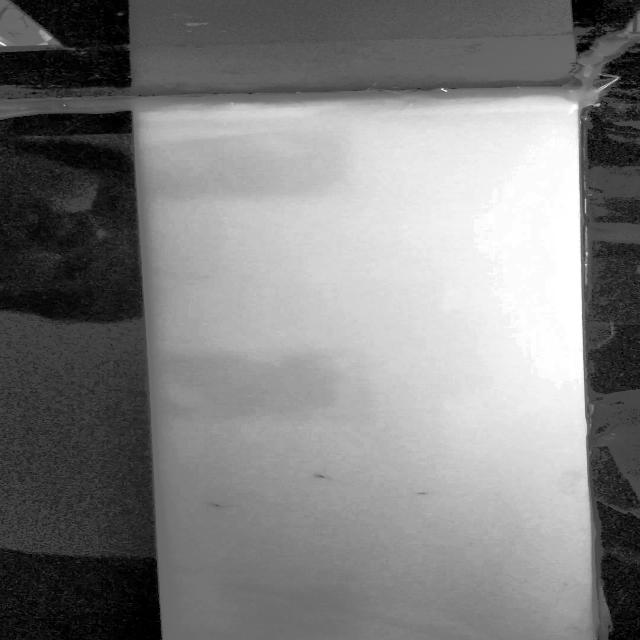shrimp: (305, 468, 344, 482), (199, 498, 234, 511), (406, 488, 435, 498)
